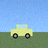vehicle: (11, 25, 32, 38)
